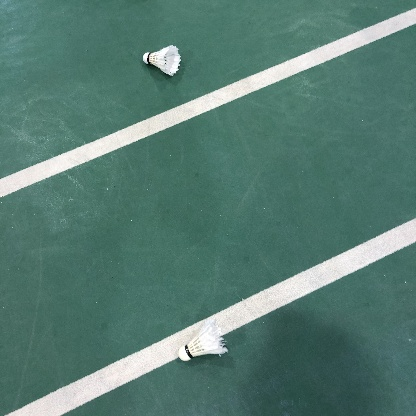ball_single: (178, 319, 228, 361), (143, 45, 181, 76)
